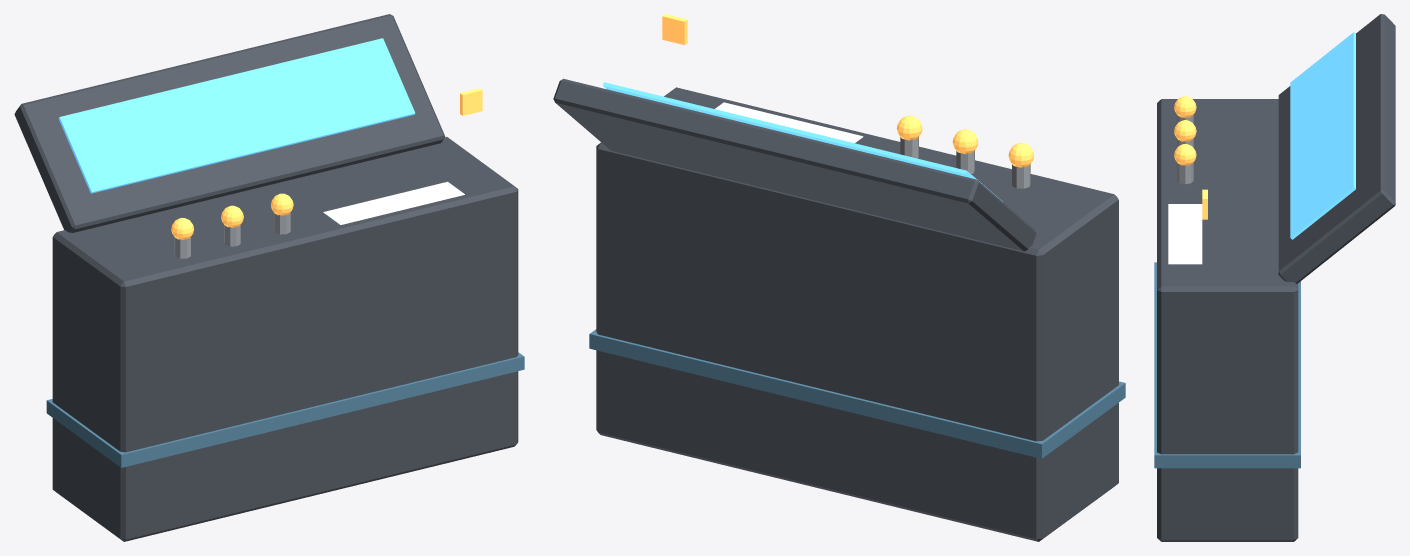
File: spaceship-deck-kit-engineering-console-4c226d95__12567.glb
3 views of the same model, side by side, from view 1: azimuth 30°, elevation 25°; view 2: azimuth 150°, elevation 25°; view 3: azimuth 270°, elevation 25° (orthographic). The views are drawn at different scales.
Visible parts, largest first — view 1: engineering-console; view 2: engineering-console; view 3: engineering-console.
Part boxes in pixels (bbox=[...]): engineering-console: bbox=[14, 14, 524, 541]; engineering-console: bbox=[553, 14, 1125, 541]; engineering-console: bbox=[1154, 14, 1395, 541].
Bounding box in the file's own units: 1.62 × 1.35 × 0.8554.
